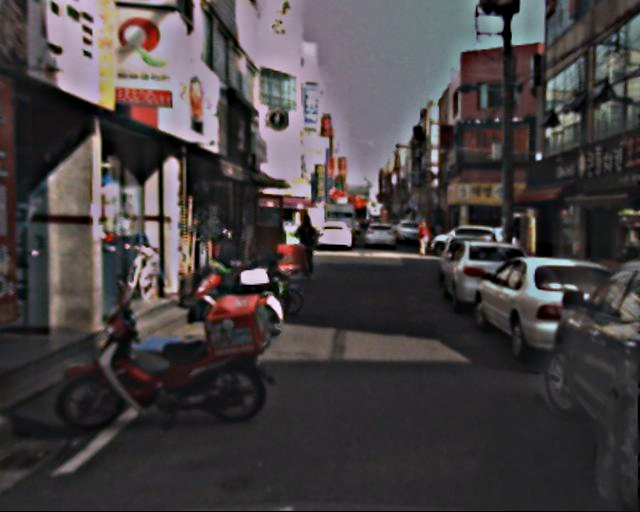person: (293, 213, 321, 281), (414, 222, 431, 254)
